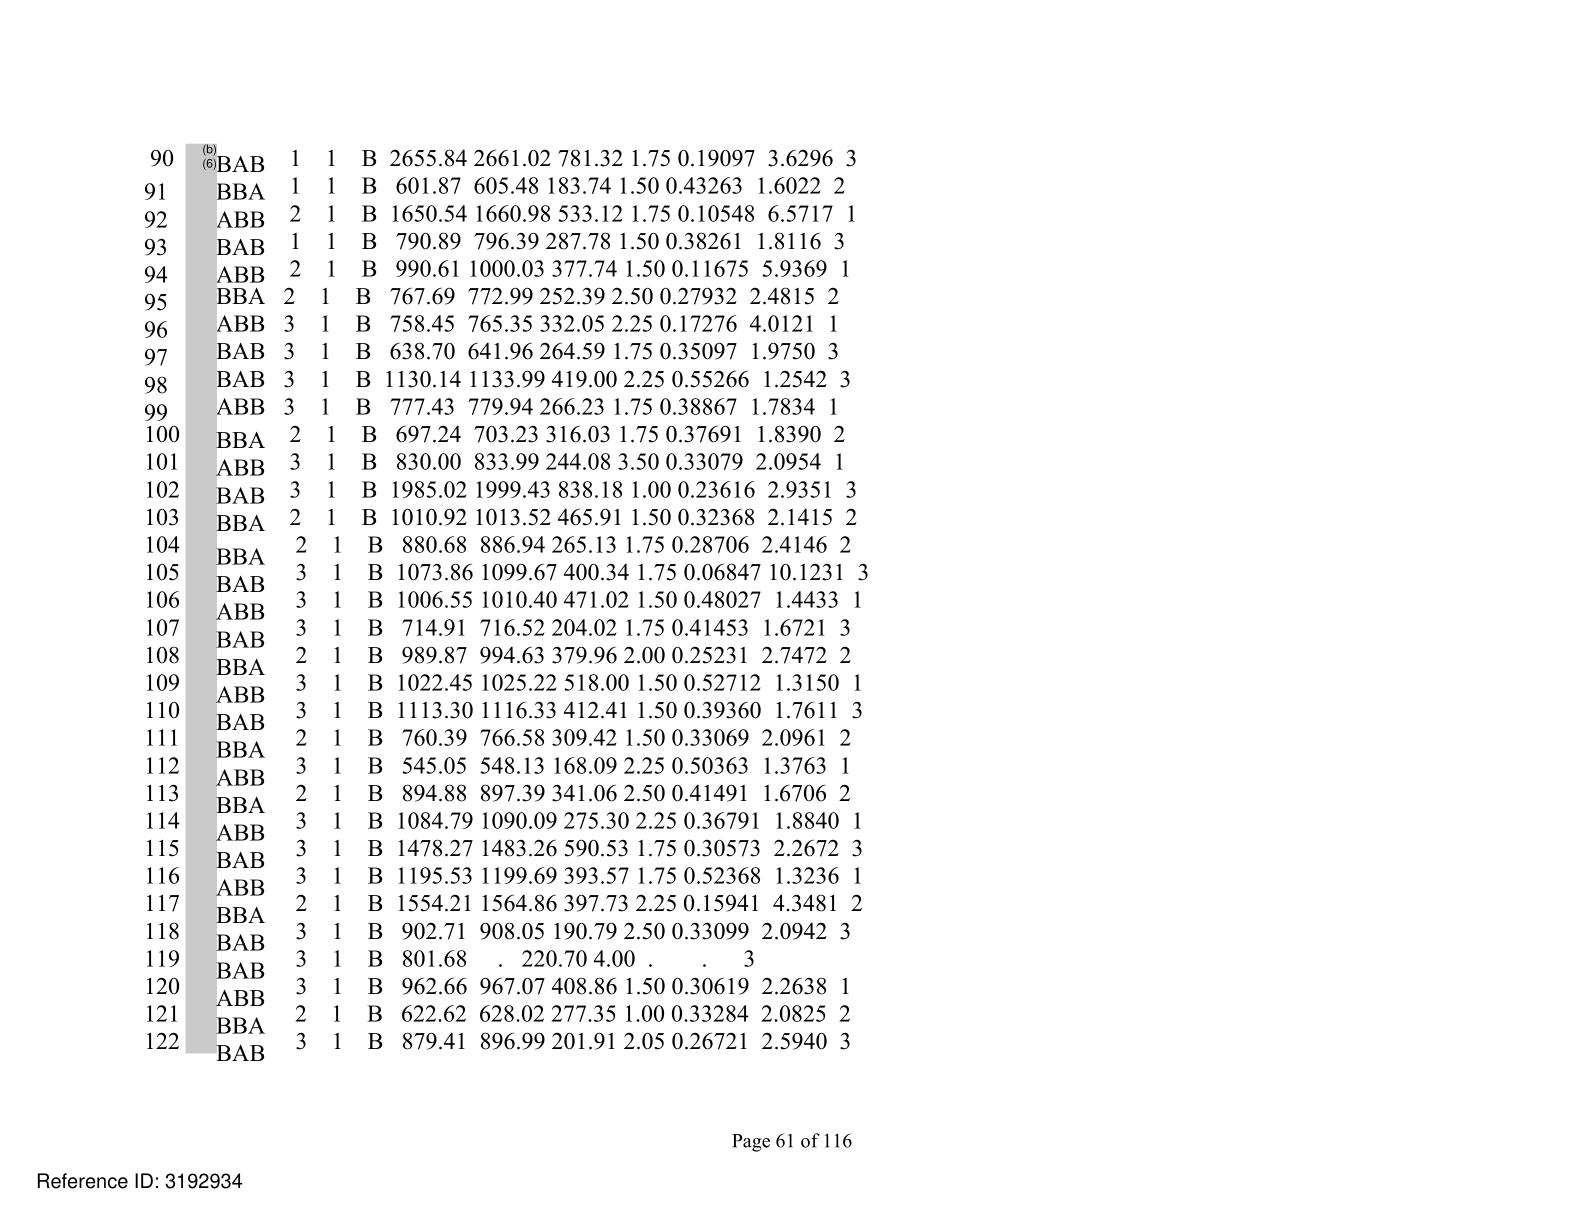nolines: (138, 138, 870, 1066)
